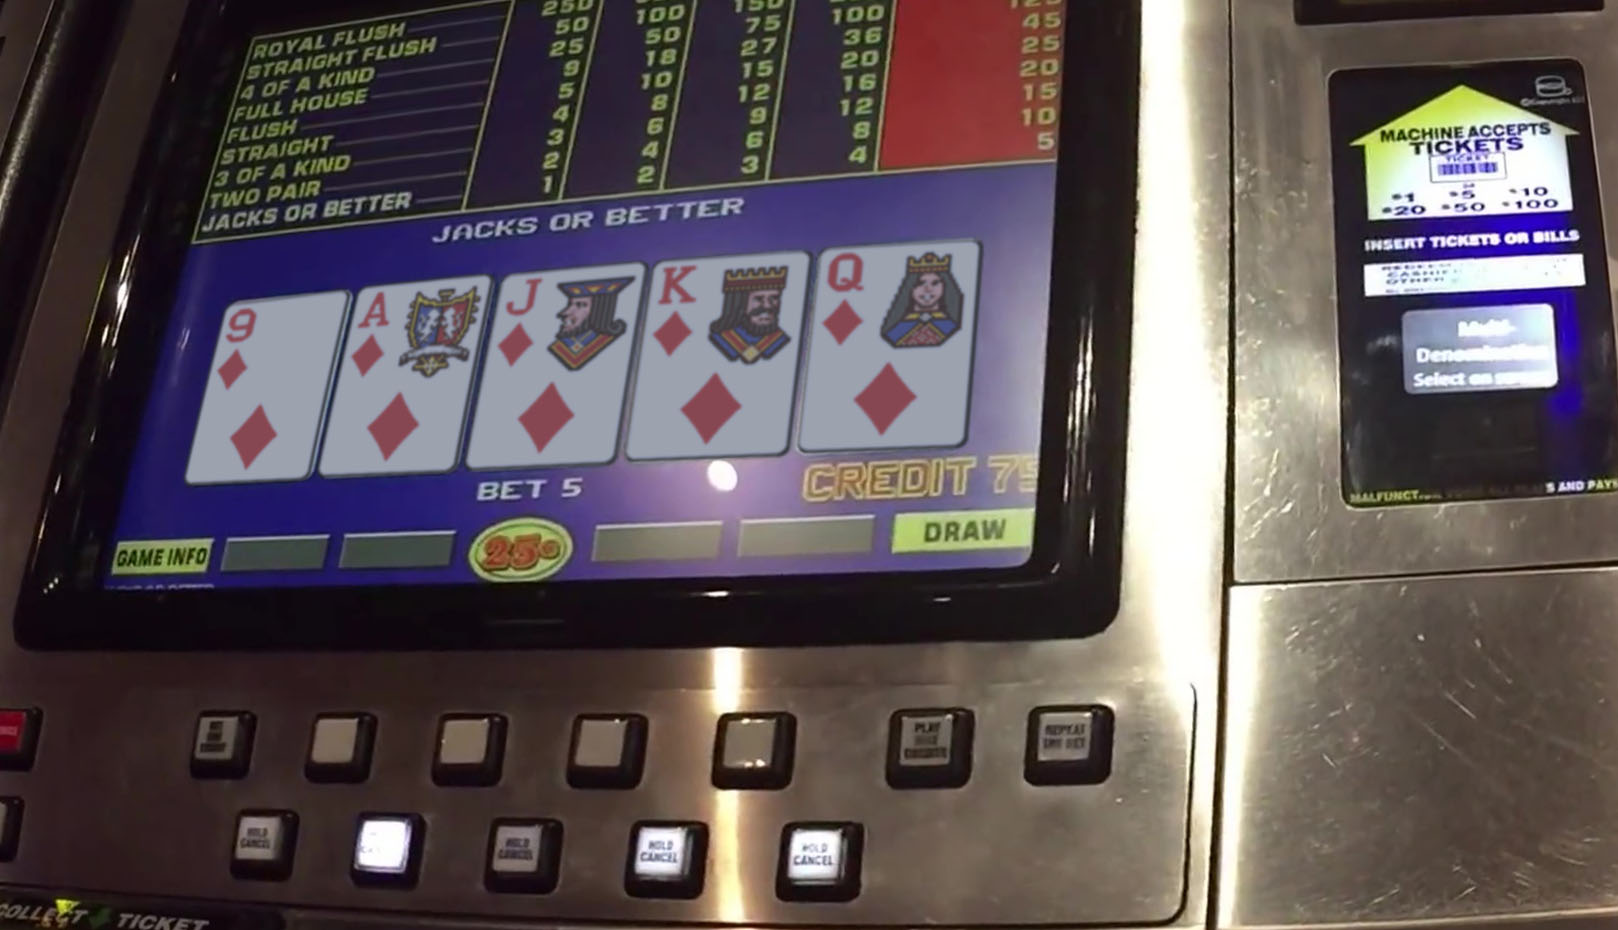D9: (217, 299, 340, 394)
DA: (352, 284, 471, 382)
DJ: (495, 268, 637, 376)
DK: (653, 258, 795, 371)
DQ: (816, 248, 973, 357)
